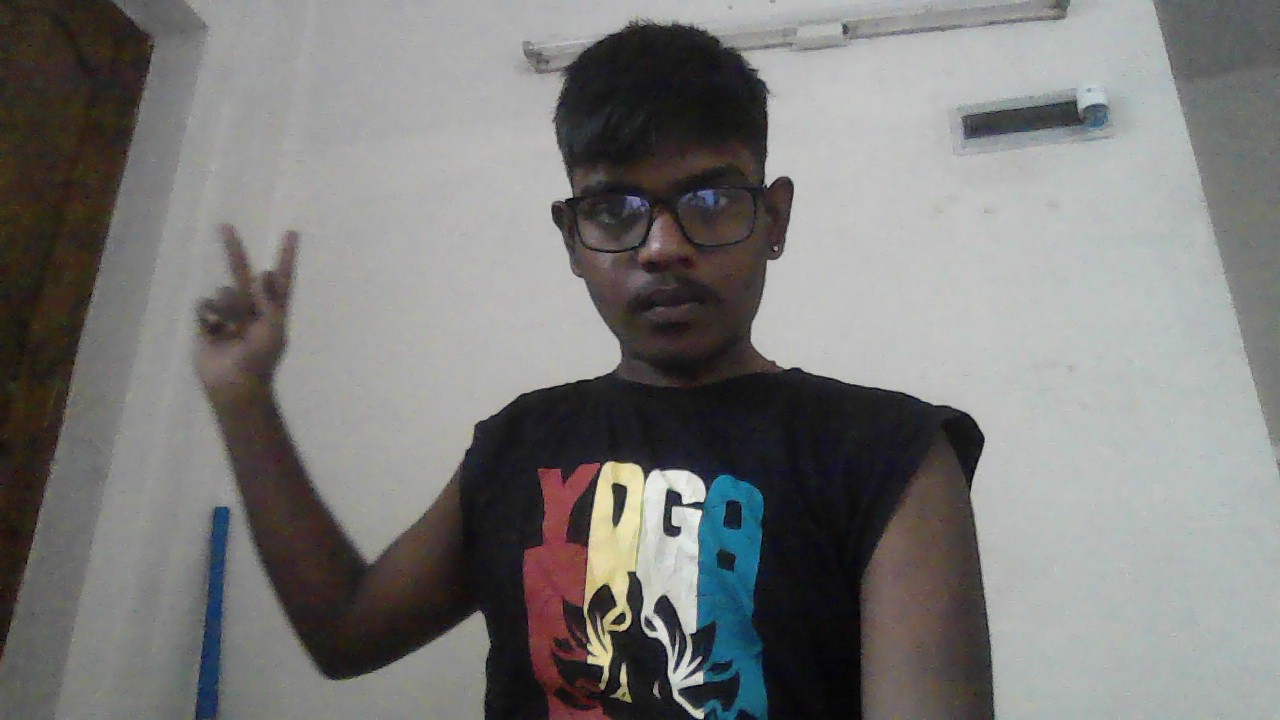K: (191, 220, 299, 407)
